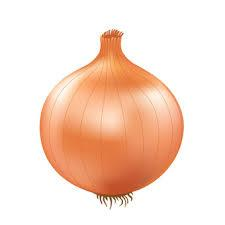non-mango: (39, 28, 184, 208)
